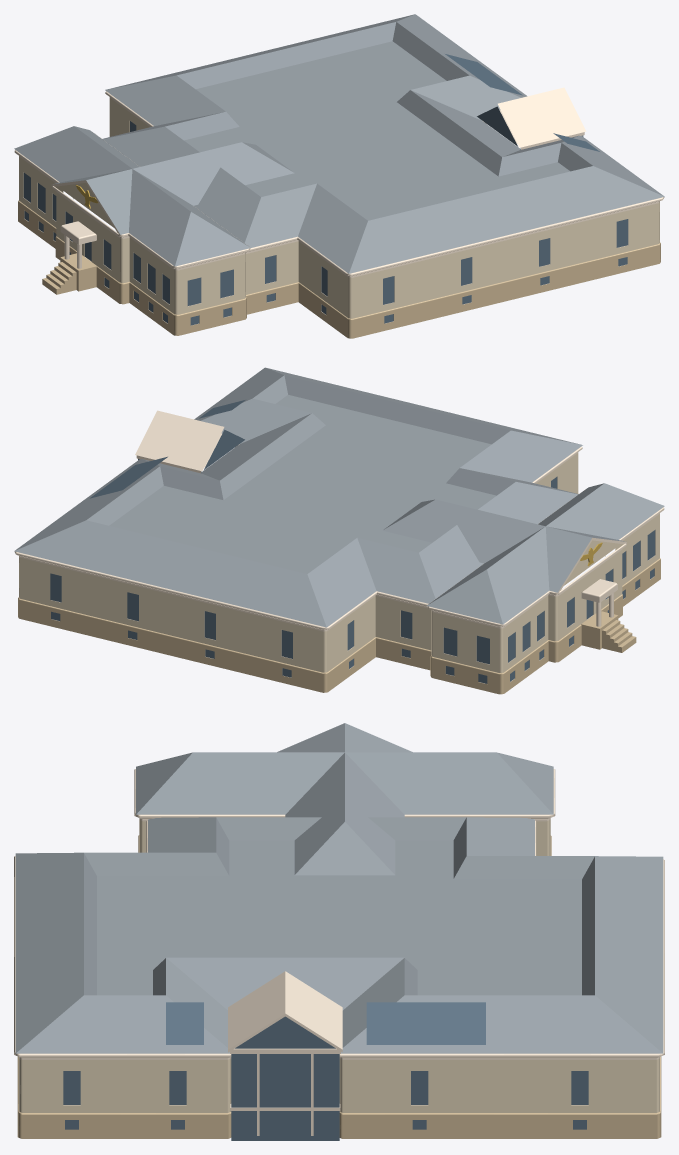
File: mint-museum-randolph.glb
The picture shows the model from 3 angles, top to bottom: view 1: azimuth 30°, elevation 25°; view 2: azimuth 150°, elevation 25°; view 3: azimuth 270°, elevation 25°; orthographic projection. The views are drawn at different scales.
Visible parts, largest first — view 1: Mint Museum Randolph; view 2: Mint Museum Randolph; view 3: Mint Museum Randolph.
Part boxes in pixels (x1,y1,x2,y2): Mint Museum Randolph: (14,14,664,338); Mint Museum Randolph: (14,367,664,694); Mint Museum Randolph: (14,723,664,1140).
Size of the model in its own units: 68.04 by 13.3 by 60.07.
